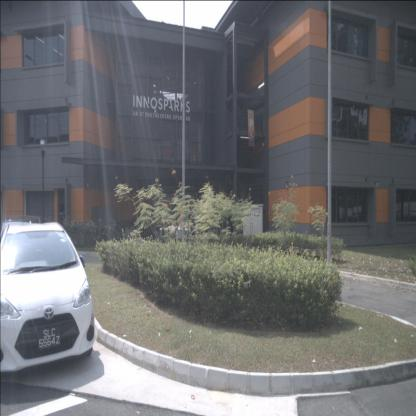vehicle-car: (0, 222, 95, 373)
